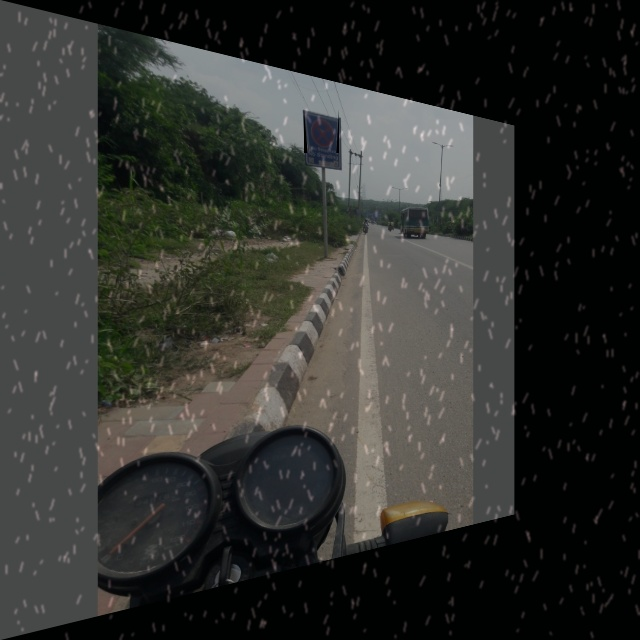No_Stopping_or_Standing: (304, 109, 339, 153)
